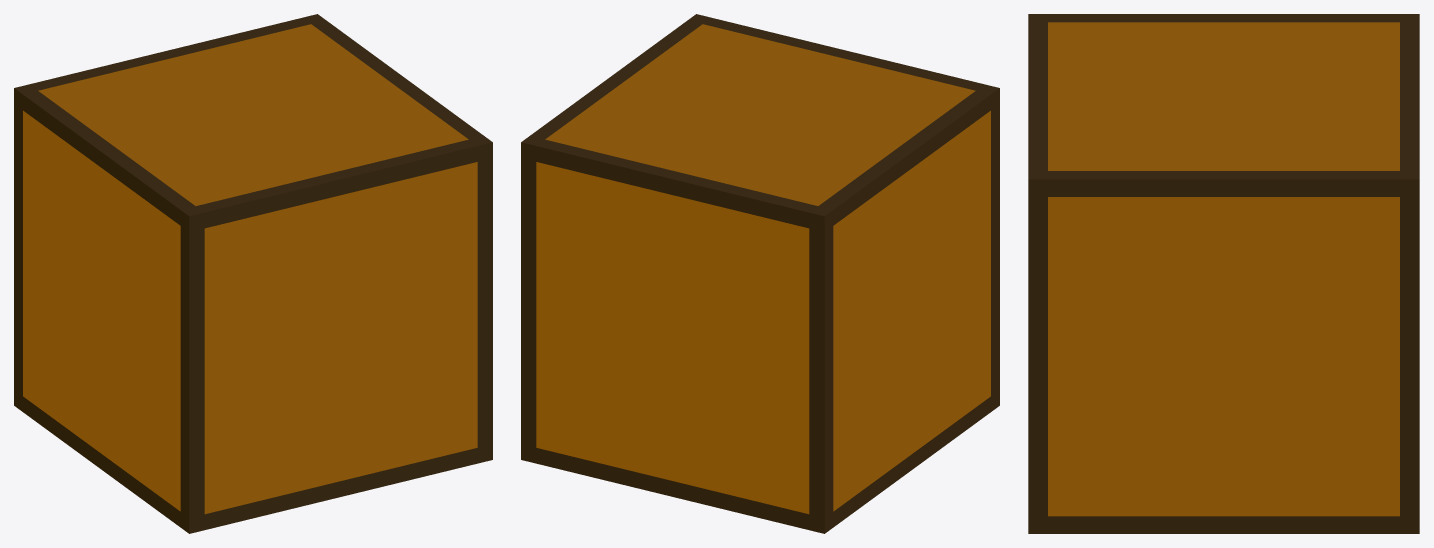
The model's file is voxel.fbx.
The picture shows the model from 3 angles, left to right: view 1: azimuth 30°, elevation 25°; view 2: azimuth 150°, elevation 25°; view 3: azimuth 270°, elevation 25°; orthographic projection. The views are drawn at different scales.
Parts seen in each view (by area): view 1: Cube.015; view 2: Cube.015; view 3: Cube.015.
Part boxes in pixels (x1,y1,x2,y2): Cube.015: (14,14,492,533); Cube.015: (521,14,999,533); Cube.015: (1028,14,1419,533).
Size of the model in its own units: 200 by 200 by 200.
